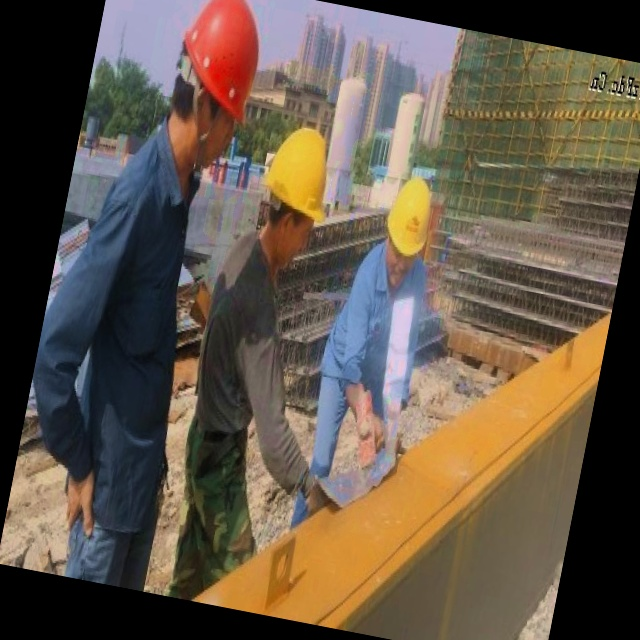Con_Casco: (254, 120, 340, 263)
